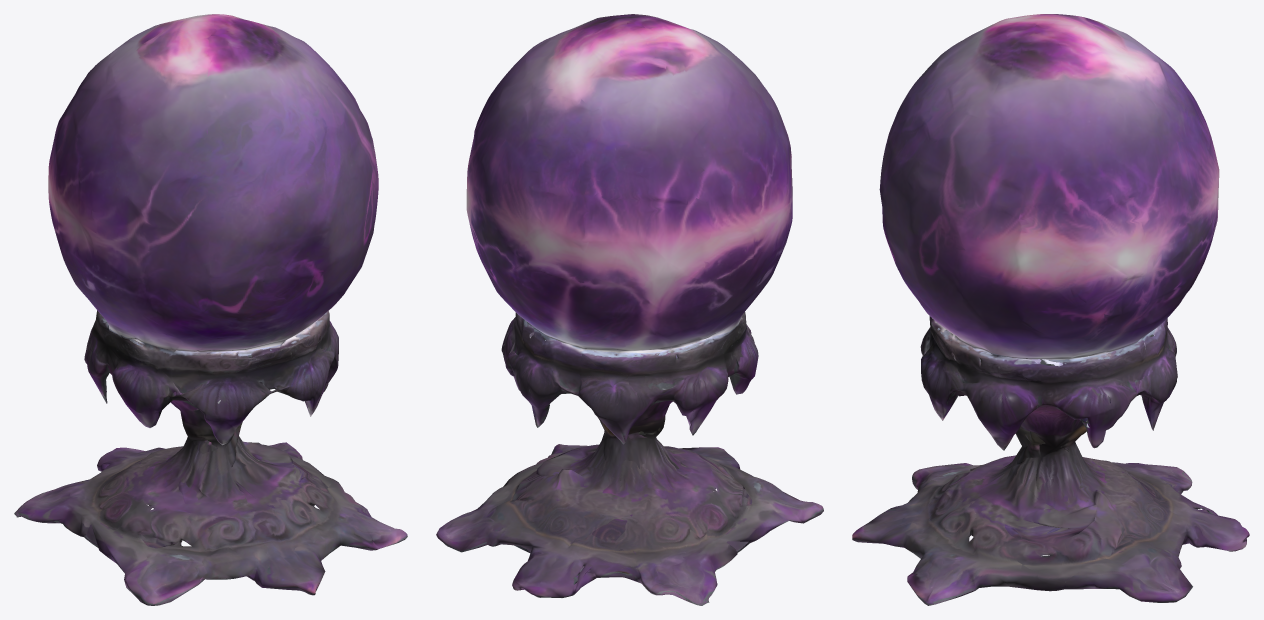
Rendered from ball2.fbx.
3 renders of one model, left to right at view 1: azimuth 30°, elevation 25°; view 2: azimuth 150°, elevation 25°; view 3: azimuth 270°, elevation 25°, orthographic. The views are drawn at different scales.
Visible parts, largest first — view 1: temp; view 2: temp; view 3: temp.
Part boxes in pixels (<box>): temp: <box>14,14,407,605</box>; temp: <box>436,14,823,605</box>; temp: <box>852,14,1249,605</box>.
Size of the model in its own units: 3.62 by 6.03 by 4.25.
1 material, 1 textured.
